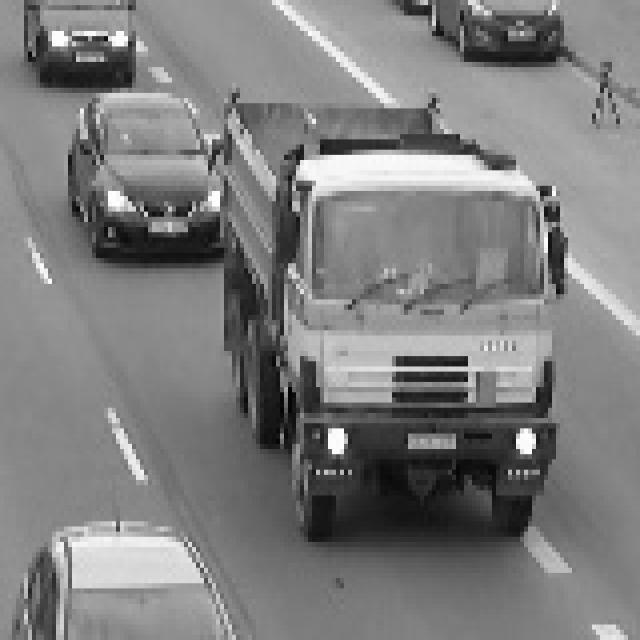truck: (262, 138, 580, 533)
